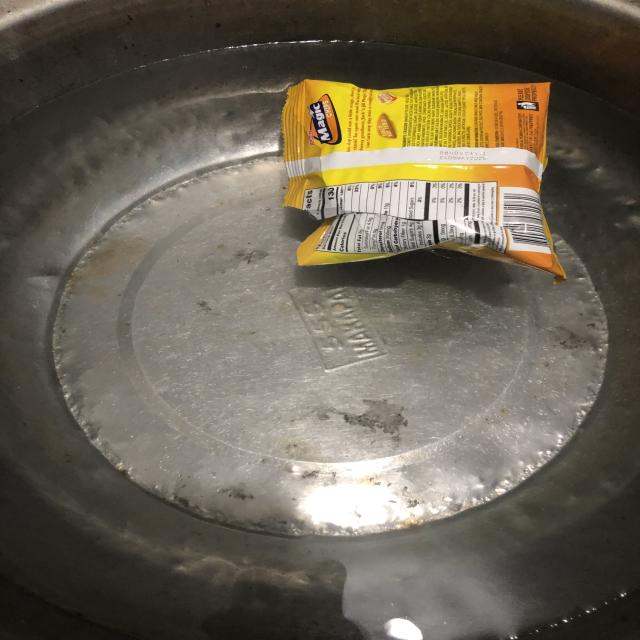Plastic Wrapper: (278, 75, 575, 288)
